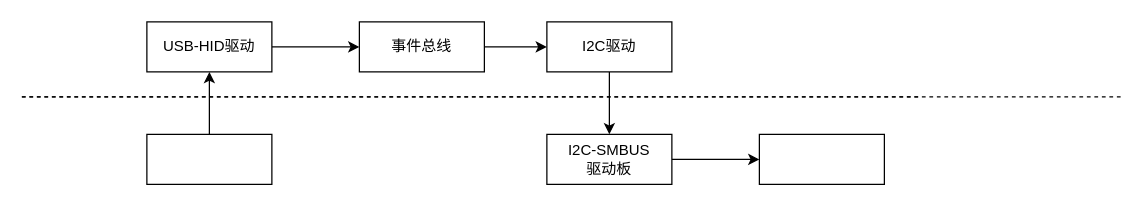
The diagram is 1145 pixels wide and 206 high, and some of its shapes have lost their labels. The box of each missing label's shape, as (x1, y1, x2, y2) in pixels:
I2C从设备-车轮: (758, 133, 884, 184)
无线HID设备 （无线鼠标）: (146, 133, 272, 184)
